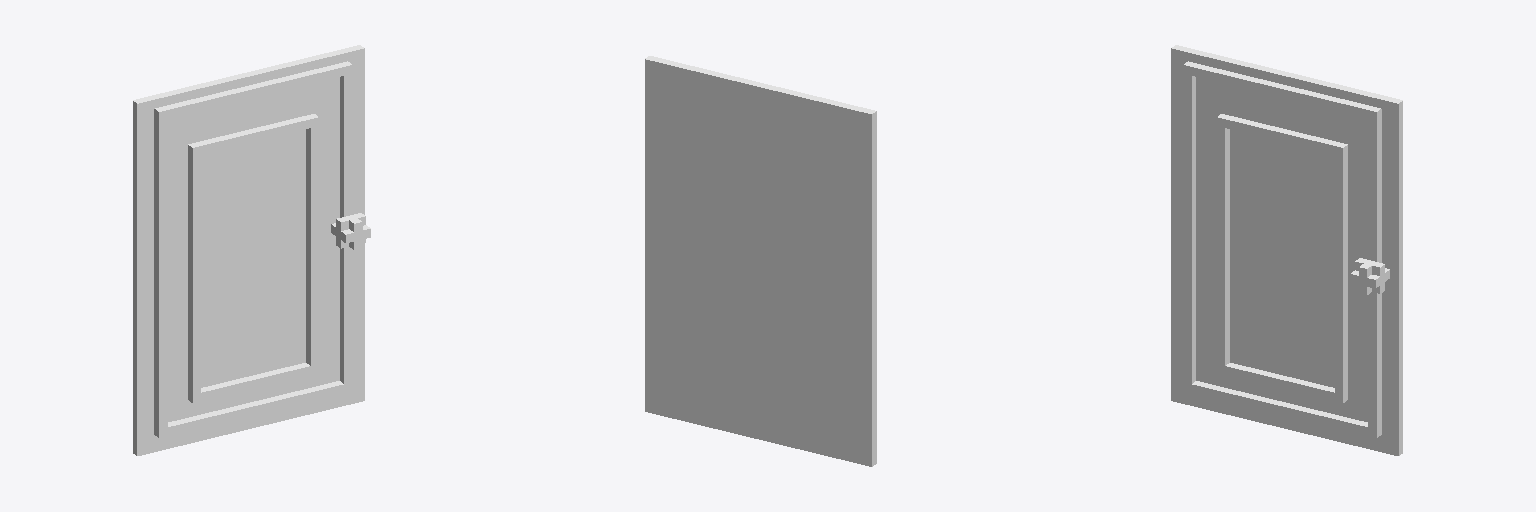
Rendered from Puerta.obj.
3 views of the same model, side by side, from view 1: azimuth 30°, elevation 25°; view 2: azimuth 150°, elevation 25°; view 3: azimuth 330°, elevation 25° (orthographic).
Visible parts, largest first — view 1: object 1; view 2: object 1; view 3: object 1.
Part boxes in pixels (x1,y1,x2,y2): object 1: (133, 45, 370, 455); object 1: (645, 56, 876, 466); object 1: (1171, 45, 1402, 455).
Bounding box in the file's own units: 2.7 × 4 × 0.4.